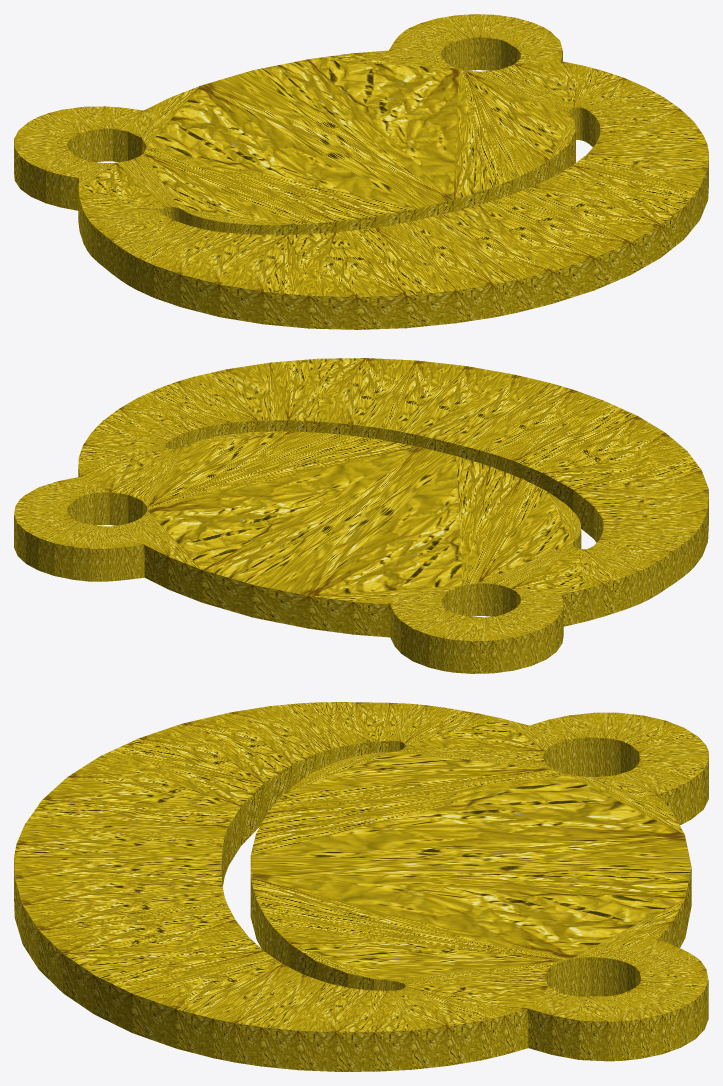
The model's file is rex_plane_gold.glb.
The picture shows the model from 3 angles, top to bottom: view 1: azimuth 30°, elevation 25°; view 2: azimuth 150°, elevation 25°; view 3: azimuth 270°, elevation 25°; orthographic projection. The views are drawn at different scales.
Visible parts, largest first — view 1: Rextra; view 2: Rextra; view 3: Rextra.
Part boxes in pixels (left/top/right/bottom): Rextra: left=14, top=14, right=708, bottom=329; Rextra: left=14, top=358, right=708, bottom=673; Rextra: left=14, top=702, right=708, bottom=1071.
Bounding box in the file's own units: 18 × 1 × 16.
Materials: 1 (1 with a texture image).
